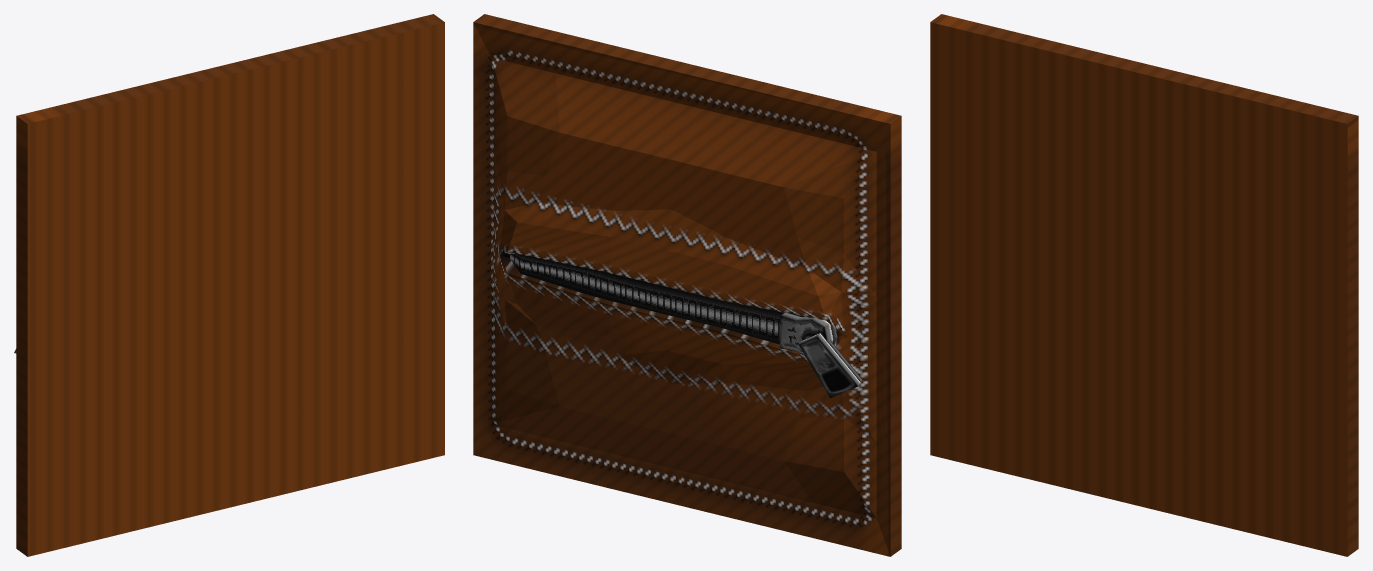
The model's file is zipper.obj.
3 renders of one model, left to right at view 1: azimuth 30°, elevation 25°; view 2: azimuth 150°, elevation 25°; view 3: azimuth 330°, elevation 25°, orthographic.
Size of the model in its own units: 2 by 1.98 by 0.2875.
